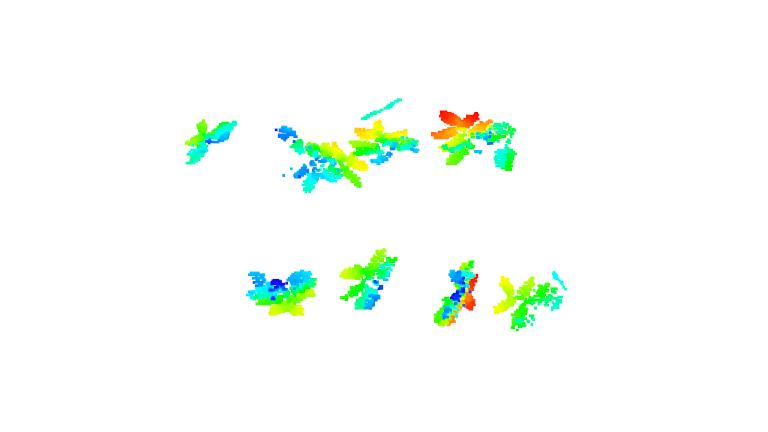chickpea: (275, 124, 371, 190), (430, 109, 520, 172), (494, 267, 568, 334), (339, 245, 399, 313), (247, 268, 318, 317), (430, 259, 480, 328), (349, 119, 420, 166), (180, 117, 242, 167)
